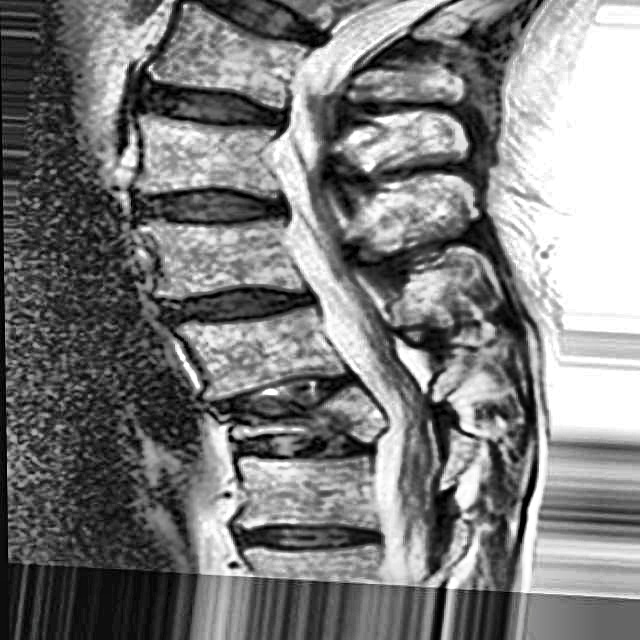Comminuted: (222, 365, 397, 464)
